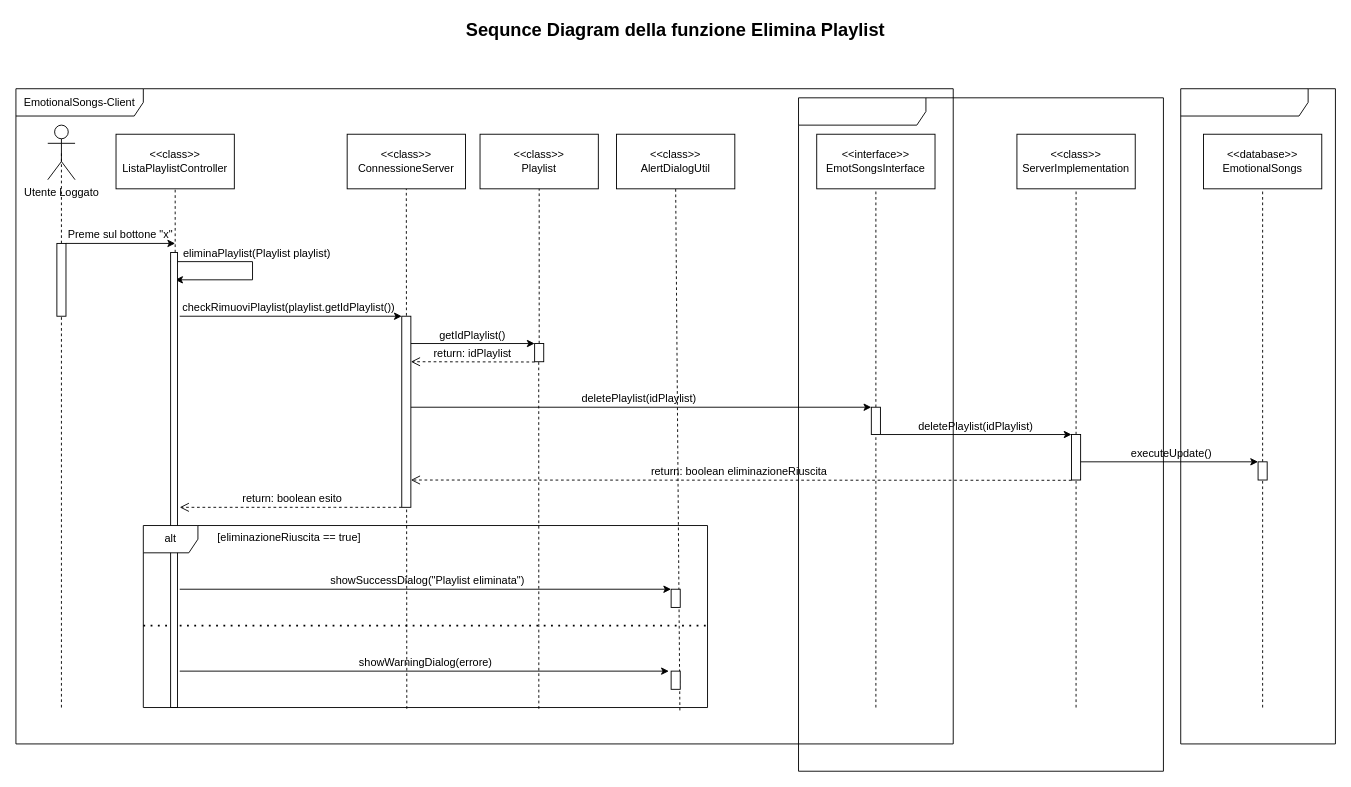
Image size: 1351x787. Some labels were removed from this diagram. Each missing label, with the centre of its shape:
"EmotionalSongs-Server" belongs at point 980,434.
"PostgreSQL" belongs at point 1257,416.
